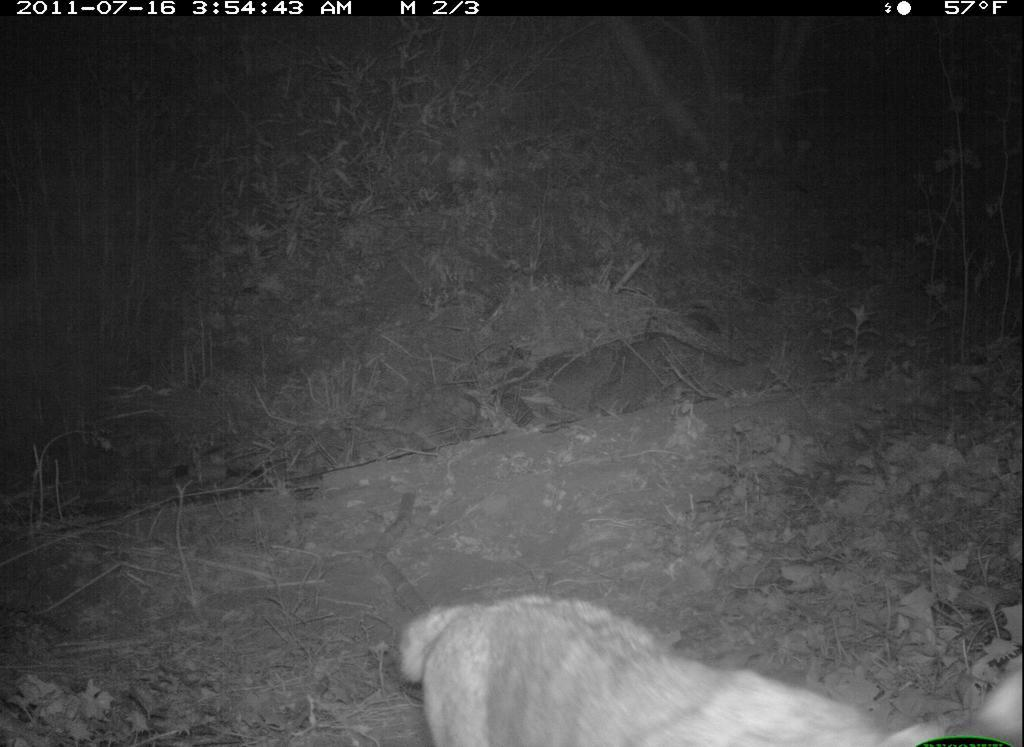bobcat: (382, 582, 1023, 747)
